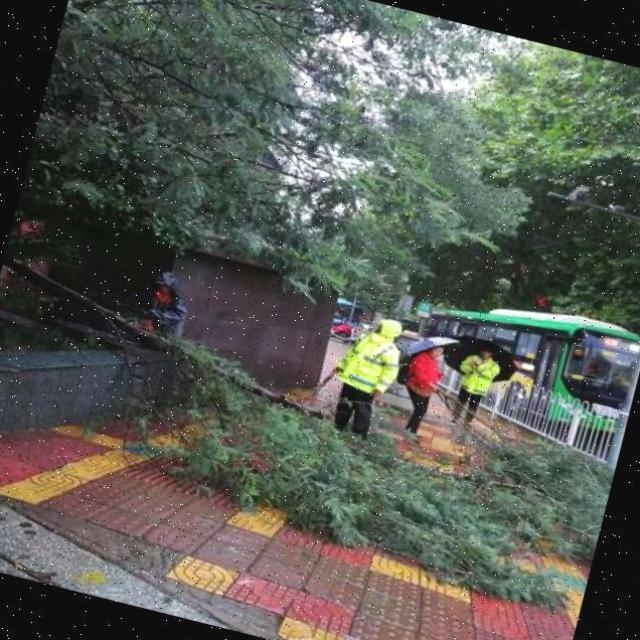fallen_object: (0, 259, 590, 616)
